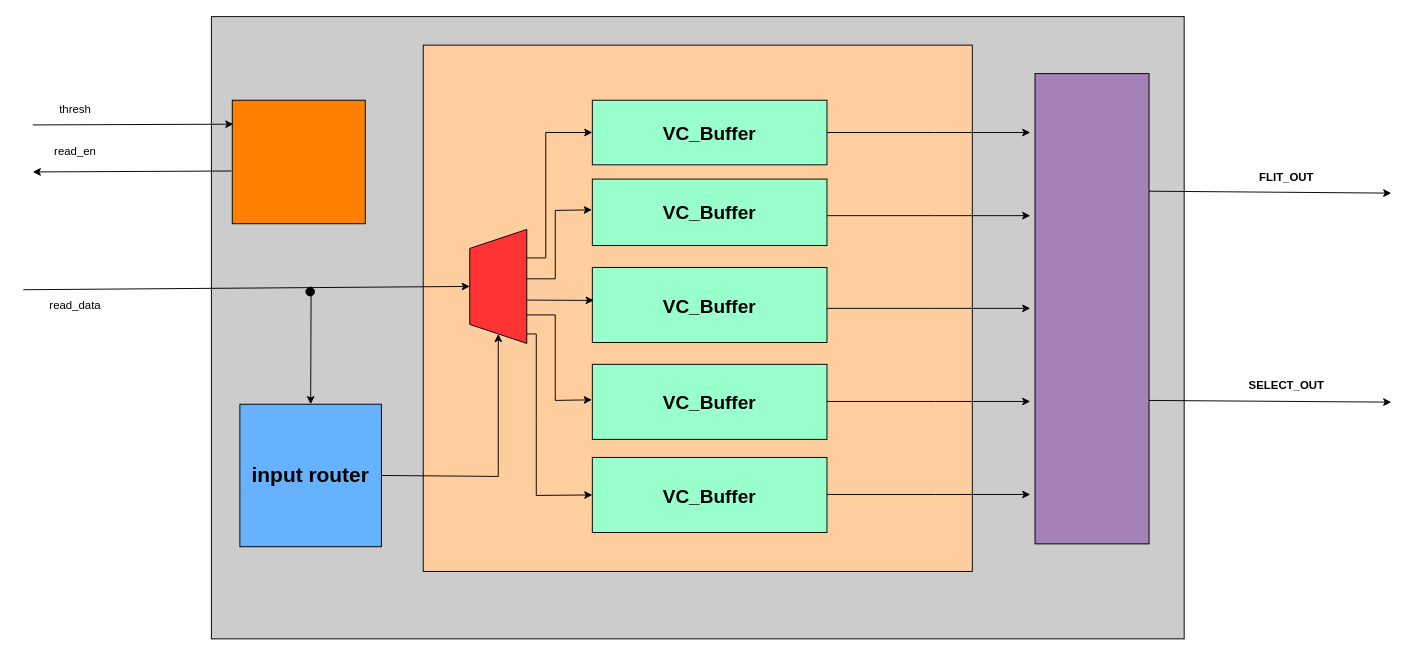
Image size: 1416x656. Some labels were removed from this diagram. Here are the shapes that lost their labels. From the top down, the centre of each, then its label:
the point at 298,161: input controller
the point at 498,285: DEMUX
the point at 1091,308: rr_arbiter mux
